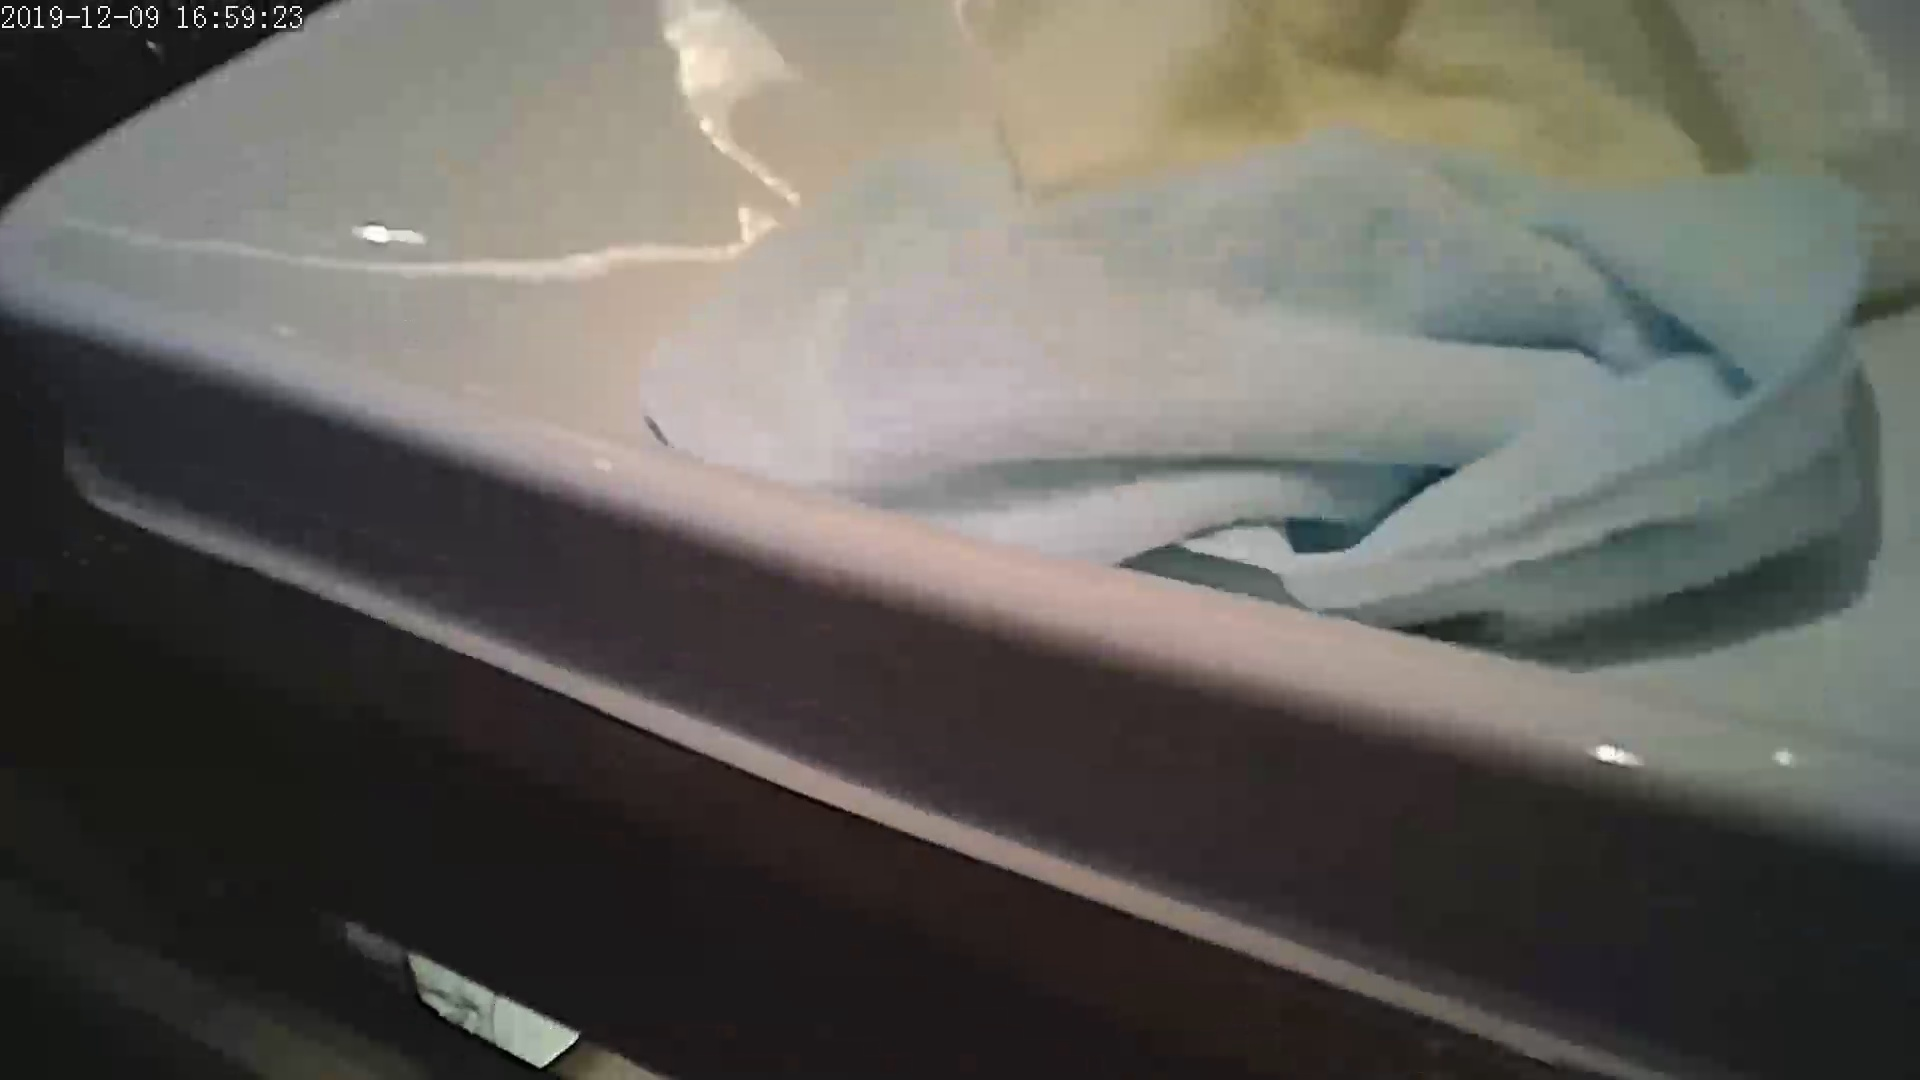bluecloth: (790, 182, 1878, 626)
sink: (25, 59, 1884, 1029)
